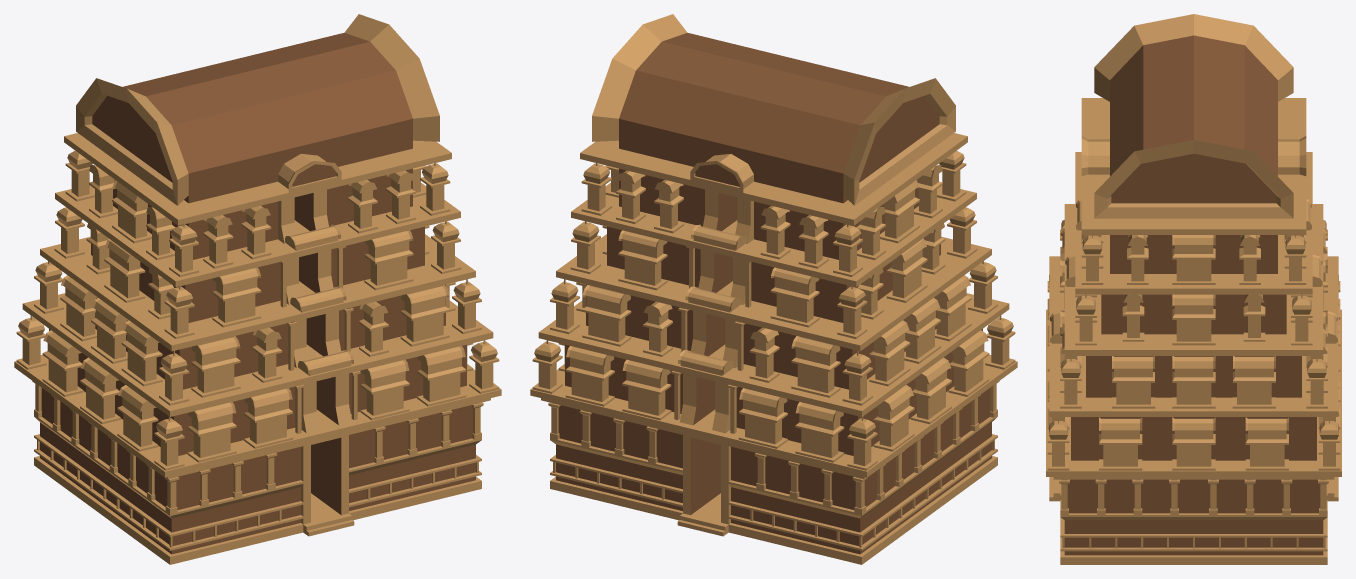
File: temple-gopuram.glb
3 views of the same model, side by side, from view 1: azimuth 30°, elevation 25°; view 2: azimuth 150°, elevation 25°; view 3: azimuth 270°, elevation 25° (orthographic).
Parts seen in each view (by area): view 1: temple-gopuram; view 2: temple-gopuram; view 3: temple-gopuram.
Part boxes in pixels (<box>): temple-gopuram: <box>14,14,501,564</box>; temple-gopuram: <box>530,14,1017,564</box>; temple-gopuram: <box>1046,14,1341,564</box>.
Bounding box in the file's own units: 17.71 × 21.13 × 13.71.
1 material, 1 textured.
